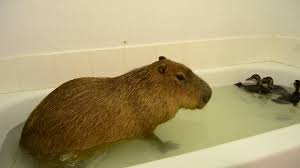capivara: (18, 56, 212, 166)
